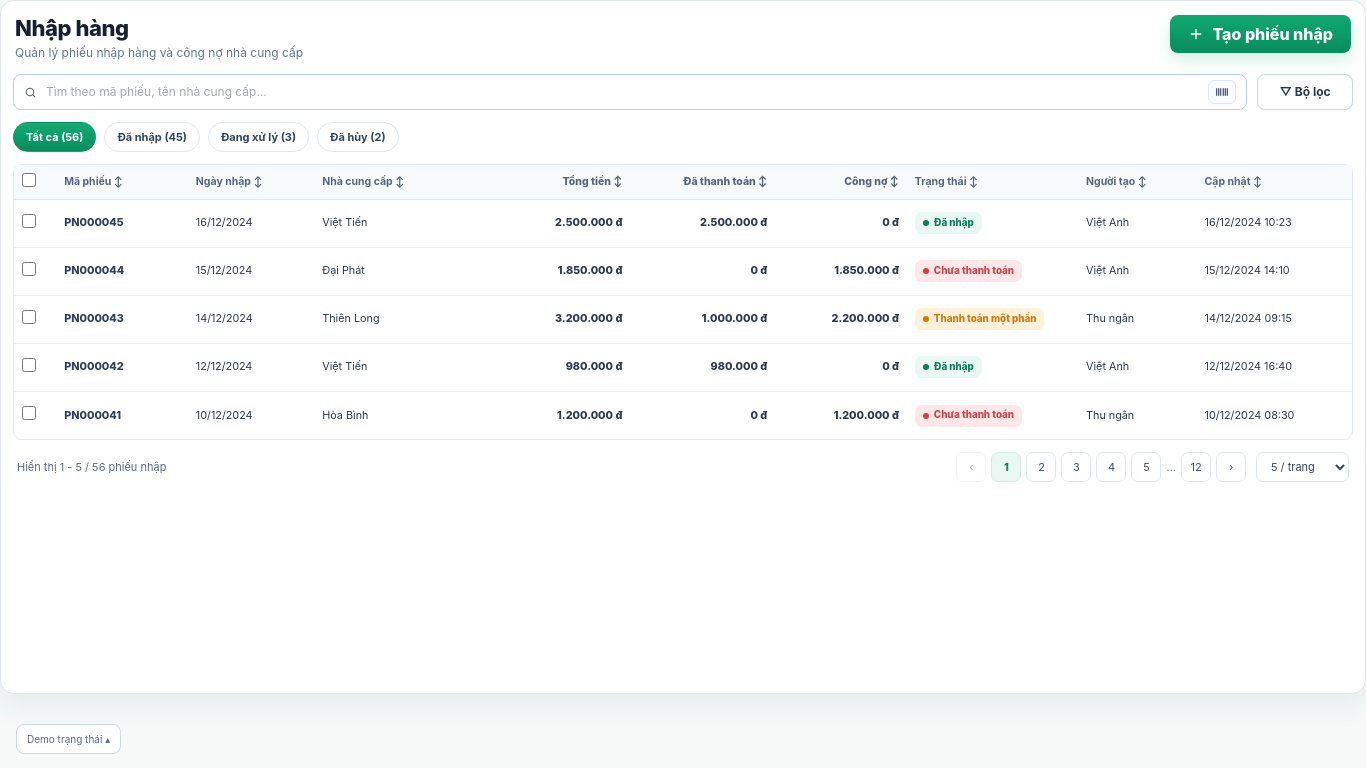
Test: PurchaseListView sample data › requires a reason before cancelling a sample purchase
The image size is (1366, 768).
Step 1. Click the button "PN000043" → x=94, y=319, box [64,311,124,328]
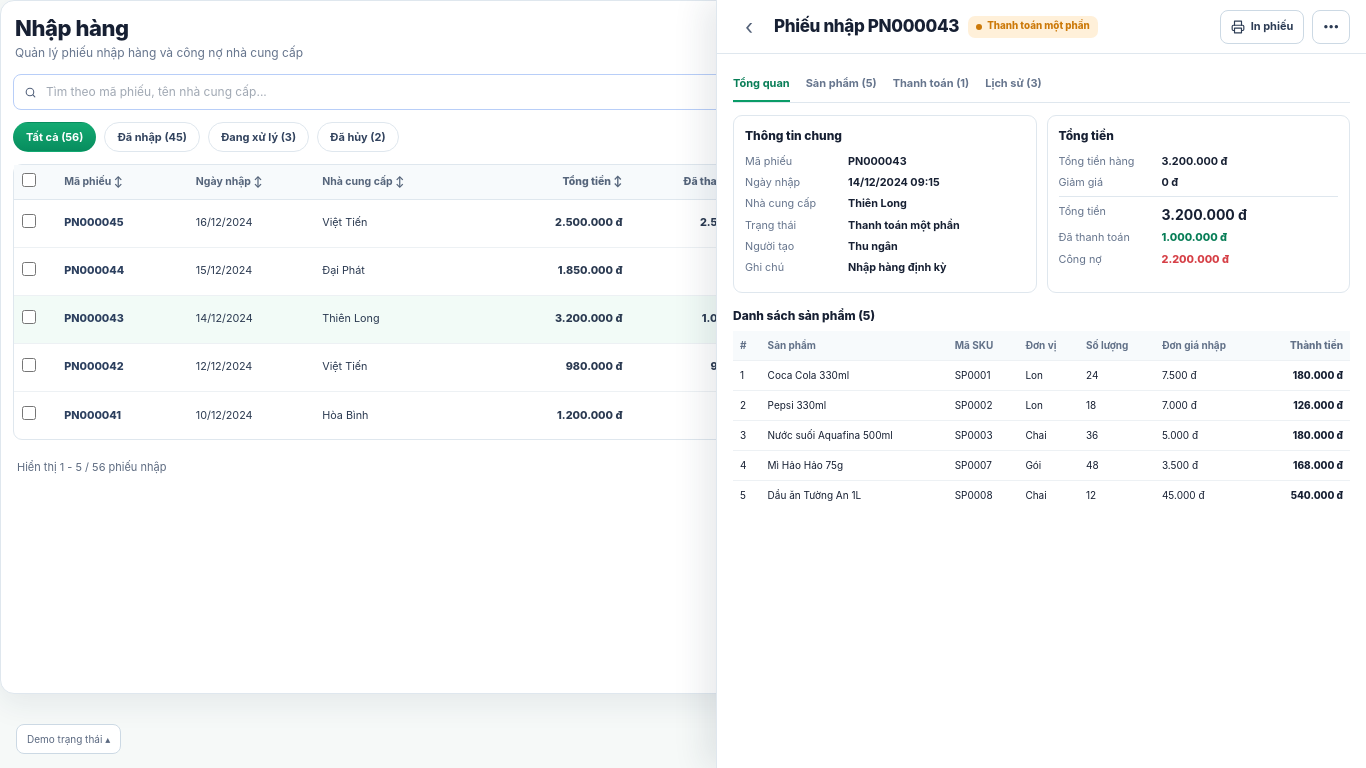
Result: the dialog named "Chi tiết phiếu nhập" shows "2.200.000 đ" at [1162,253,1229,266]
Result: the dialog named "Chi tiết phiếu nhập" shows "Nhập hàng định kỳ" at [848,261,947,274]
Step 2. Click the button named "Thao tác phiếu nhập" → x=1331, y=26, box [1312,10,1350,44]
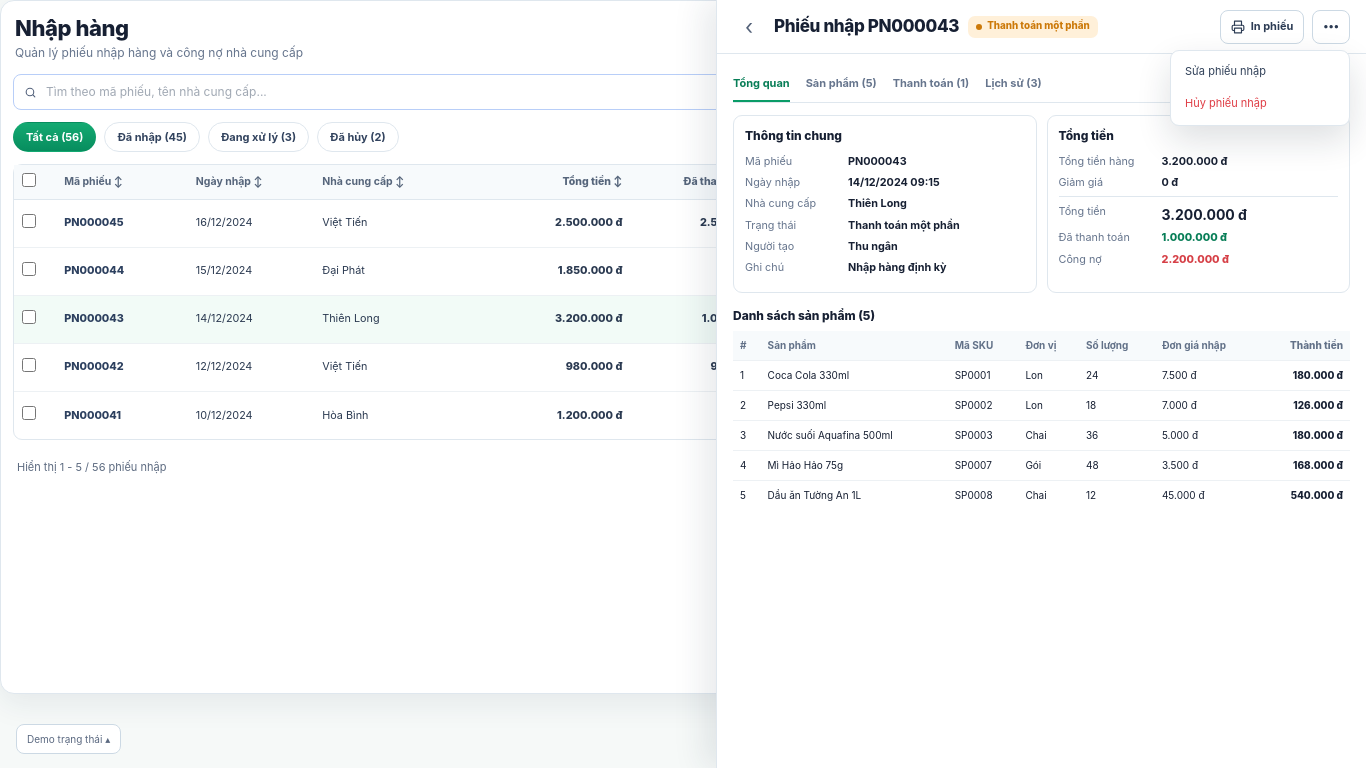
Step 3. Click the button "Hủy phiếu nhập" → x=1260, y=104, box [1176,88,1344,120]
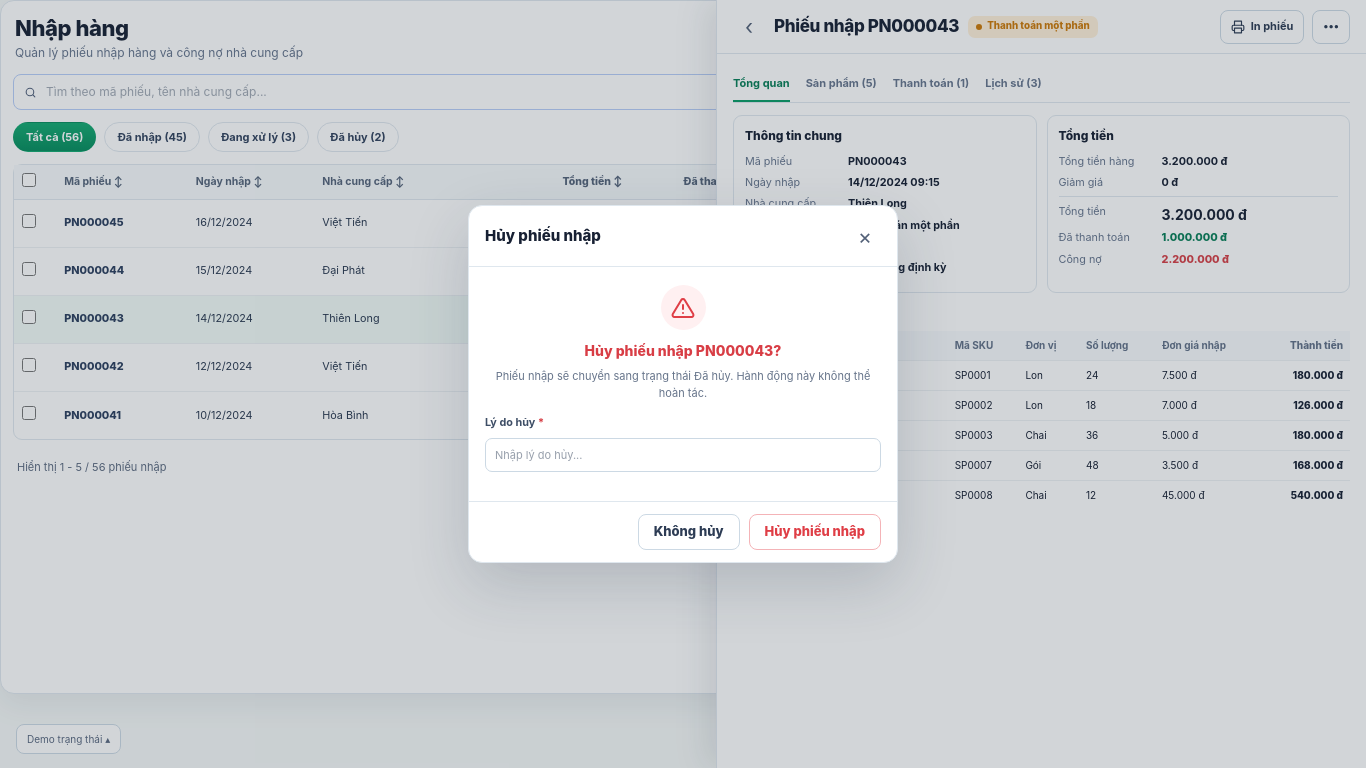
Step 4. Click the button "Hủy phiếu nhập" → x=815, y=532, box [748,514,881,550]
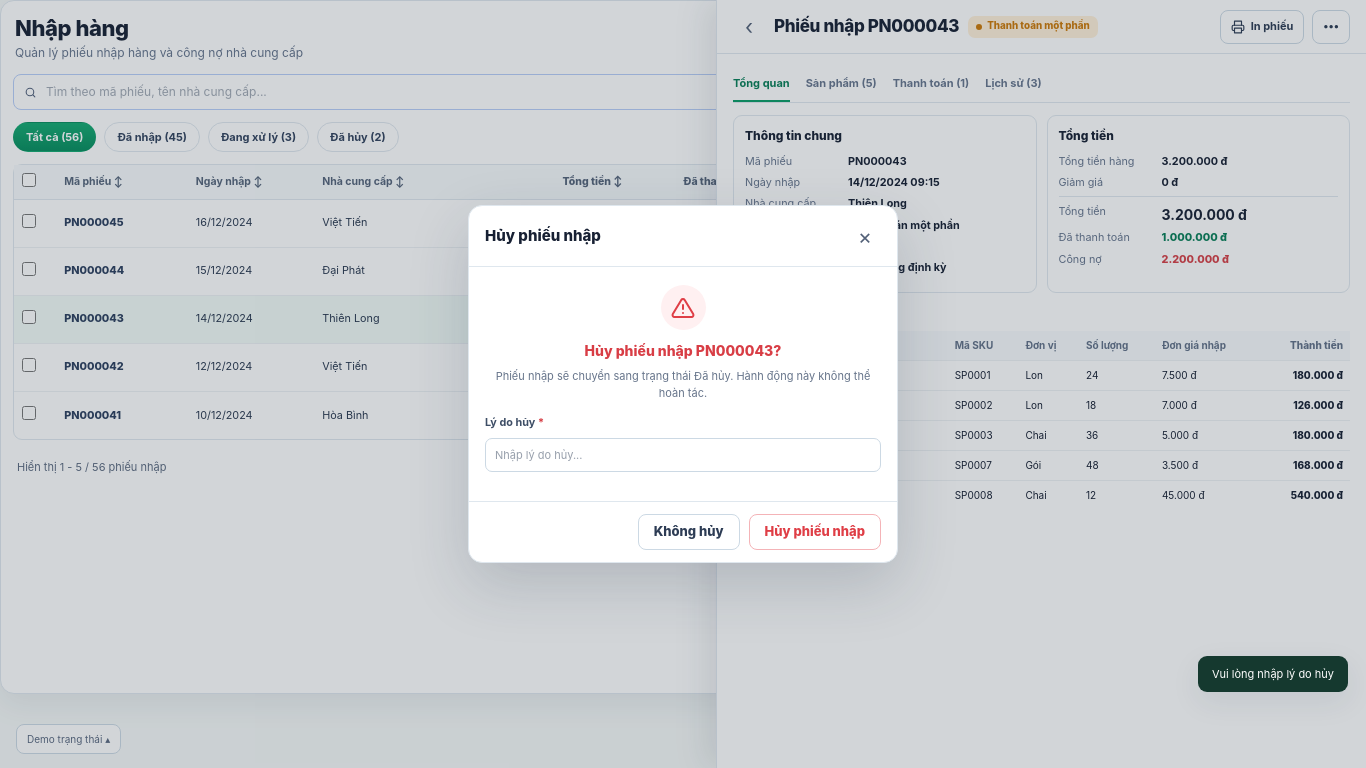
Result: the message "Vui lòng nhập lý do hủy" is shown at [1198,656,1348,692]
Step 5. Type "Nhập trùng phiếu" into the field labelled "Lý do hủy *" → x=683, y=455, box [485,438,881,472]
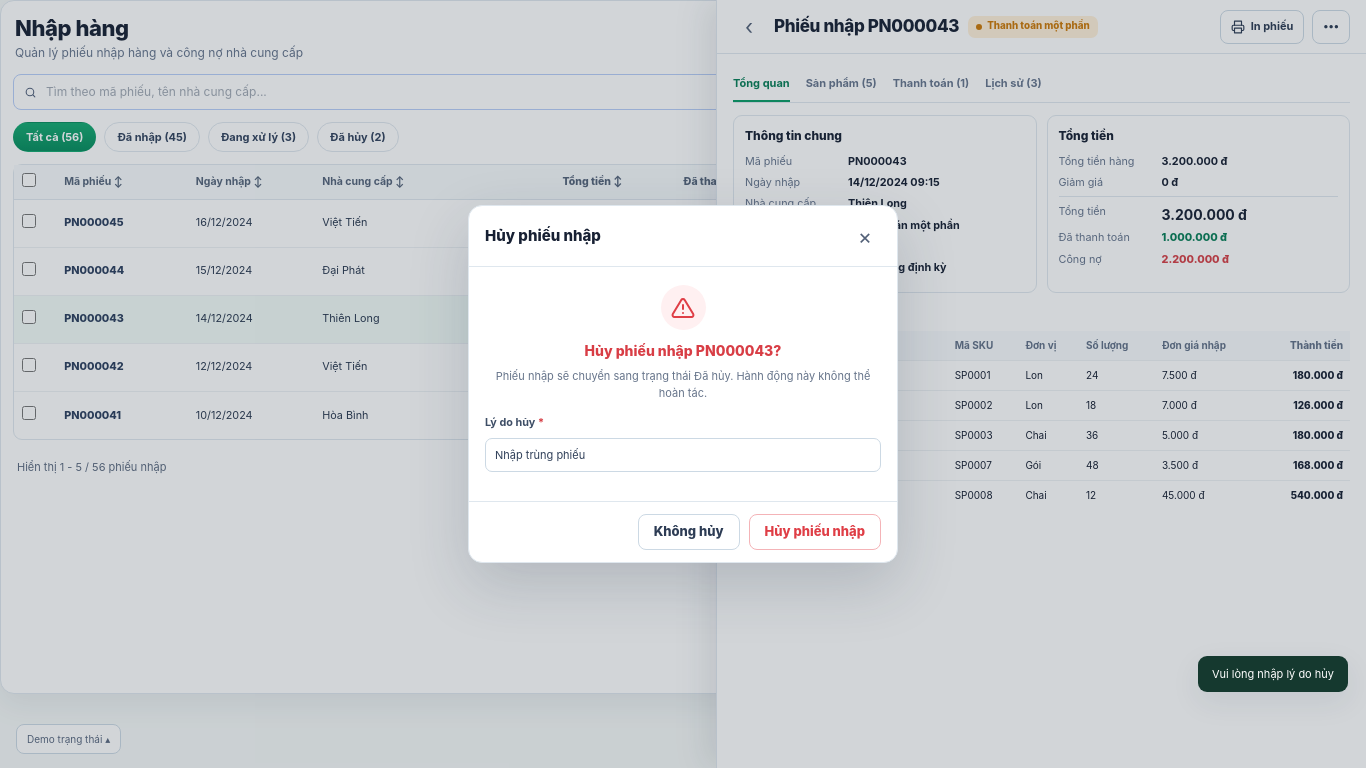
Step 6. Click the button "Hủy phiếu nhập" → x=815, y=532, box [748,514,881,550]
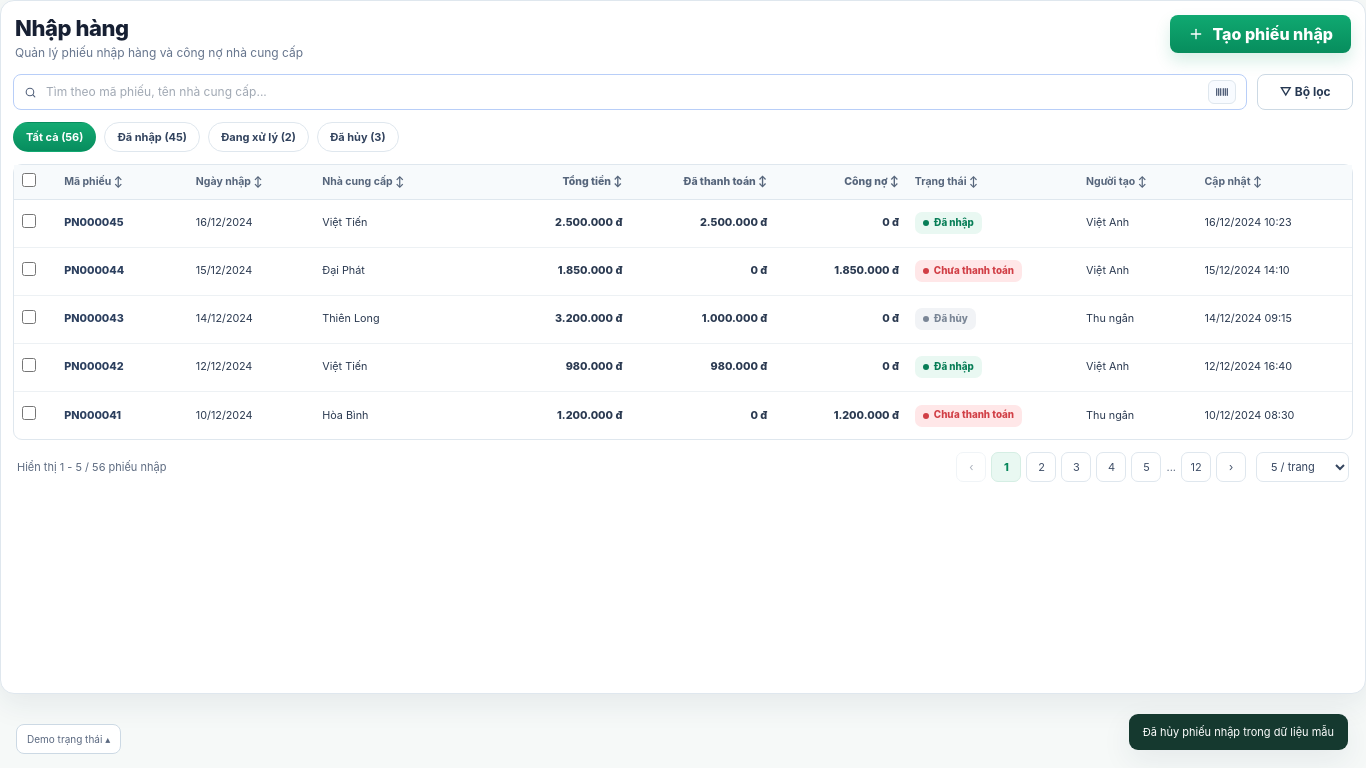
Result: the element showing "Đã hủy" is shown at [915,308,976,330]
